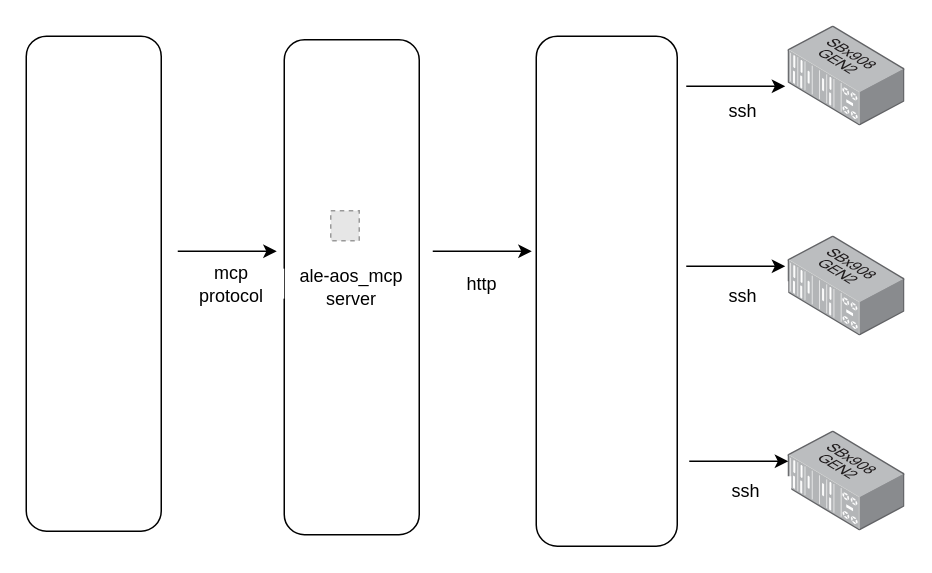
This 932x573 diagram has some shape labels left out. Grey dashed boxes stand in for pictures. Each missing label, with the centre of its shape:
"ale_aos_ssh server" belongs at point (606, 290).
"LLM AI agent" belongs at point (93, 283).
